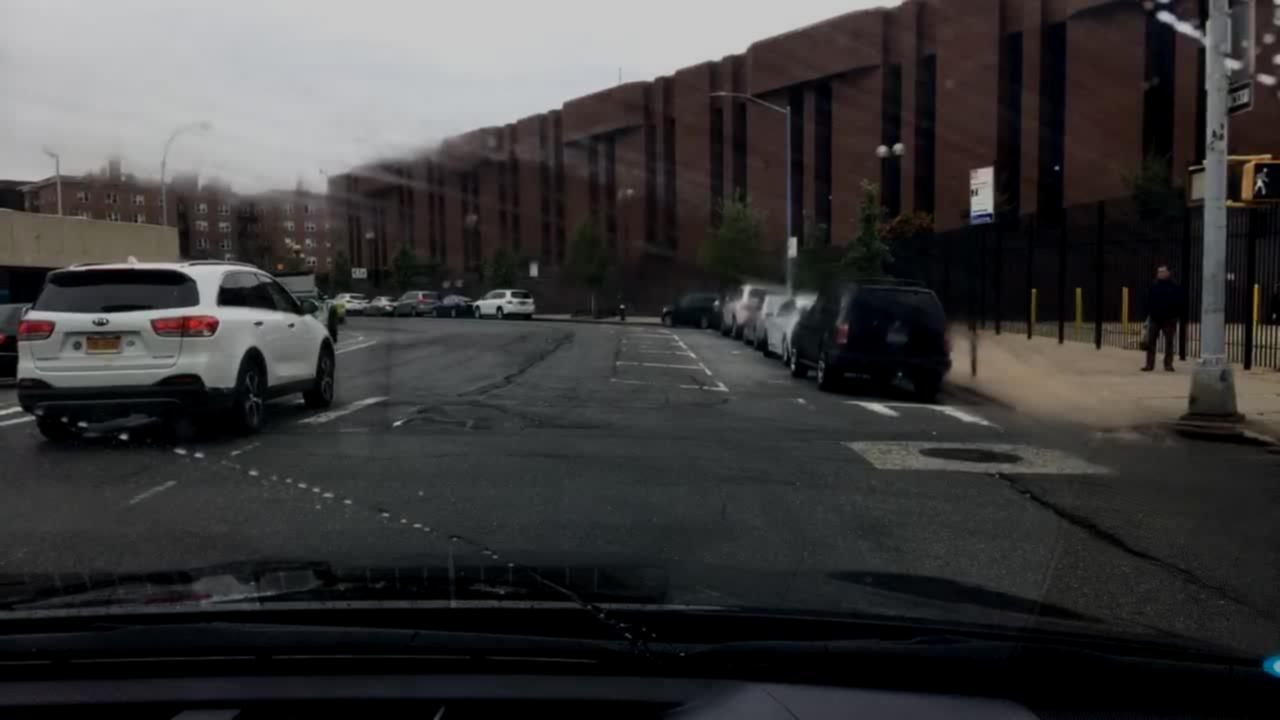kia: (89, 314, 113, 327)
